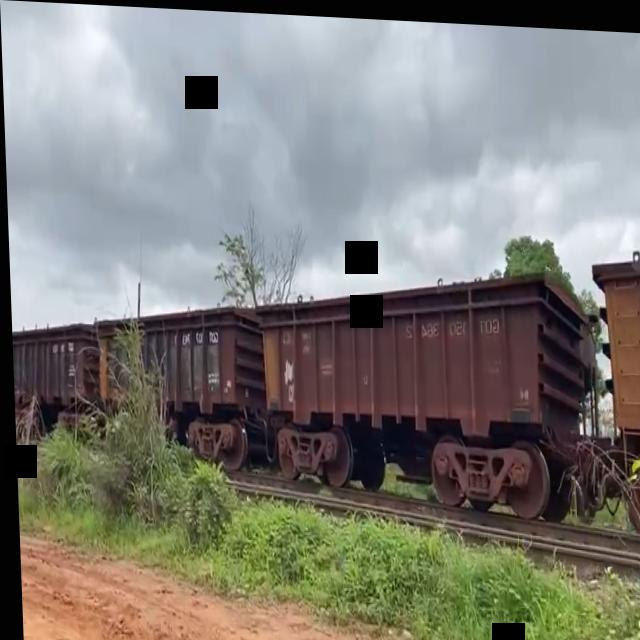gondola: (253, 260, 593, 525), (87, 296, 260, 484), (582, 235, 640, 543), (9, 305, 92, 427)
